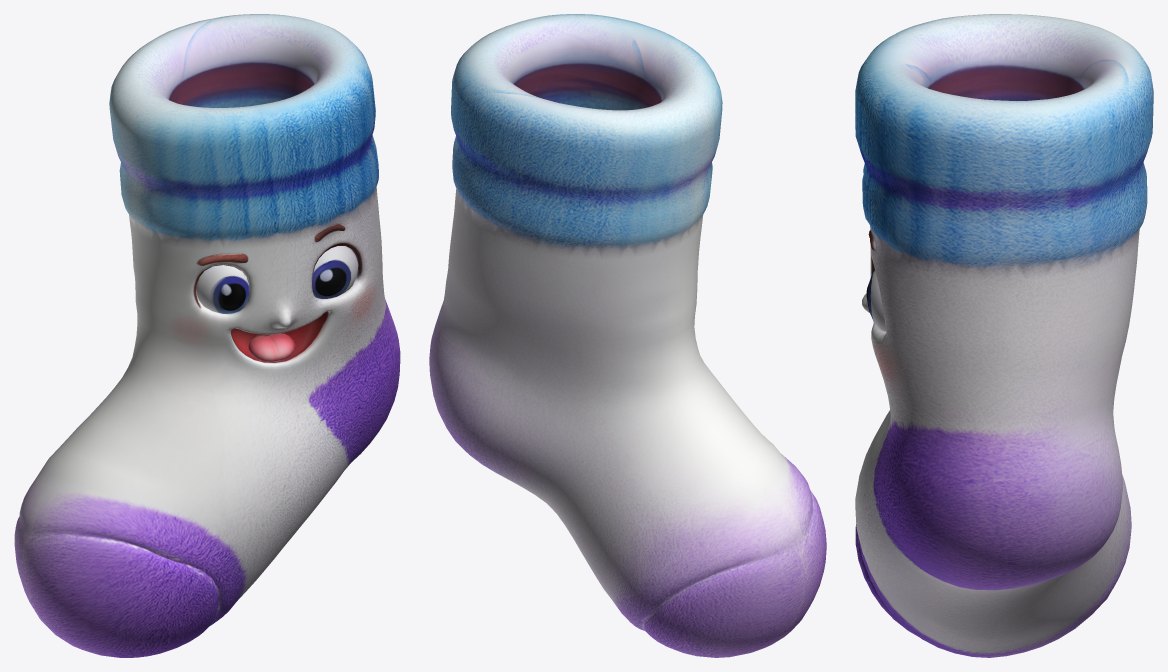
File: sock character 3d model.glb
3 renders of one model, left to right at view 1: azimuth 30°, elevation 25°; view 2: azimuth 150°, elevation 25°; view 3: azimuth 270°, elevation 25°, orthographic. The views are drawn at different scales.
Parts seen in each view (by area): view 1: tripo_node_a88f2eab-5bd9-4156-a65c-abdebf25228b; view 2: tripo_node_a88f2eab-5bd9-4156-a65c-abdebf25228b; view 3: tripo_node_a88f2eab-5bd9-4156-a65c-abdebf25228b.
Boxes of the visible parts, bbox=[...] form: tripo_node_a88f2eab-5bd9-4156-a65c-abdebf25228b: bbox=[14, 14, 400, 657]; tripo_node_a88f2eab-5bd9-4156-a65c-abdebf25228b: bbox=[429, 14, 826, 657]; tripo_node_a88f2eab-5bd9-4156-a65c-abdebf25228b: bbox=[855, 14, 1153, 657].
Bounding box in the file's own units: 0.6812 × 0.9995 × 0.4097.
Materials: 1 (1 with a texture image).
